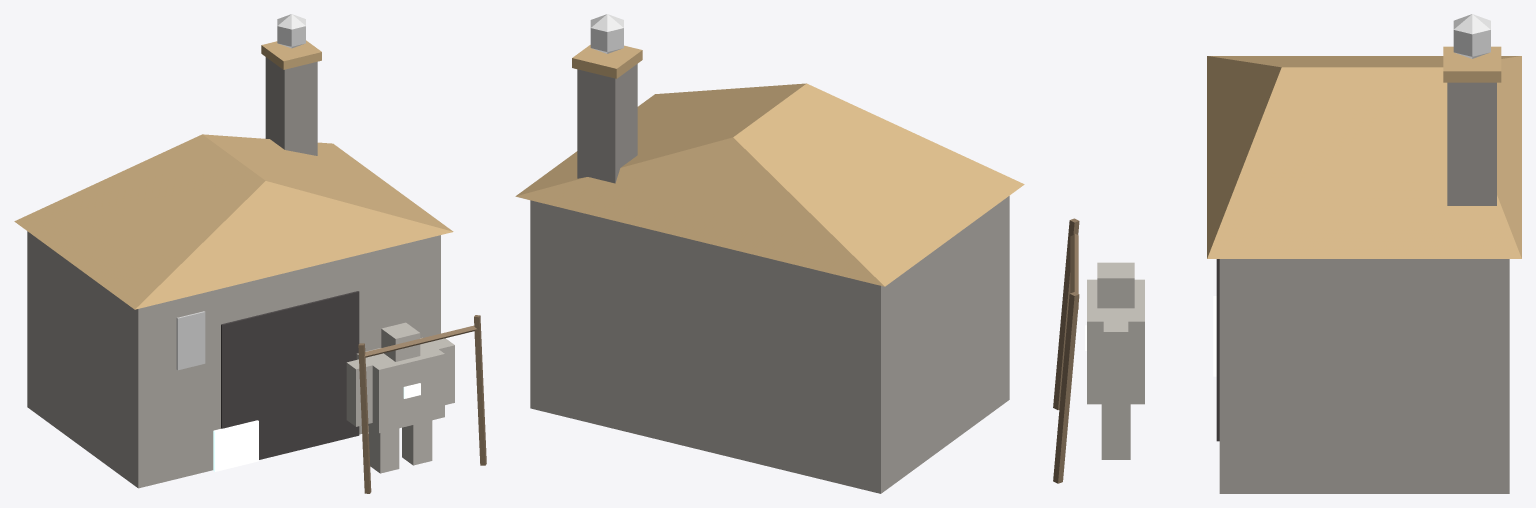
The picture shows the model from 3 angles, left to right: view 1: azimuth 30°, elevation 25°; view 2: azimuth 150°, elevation 25°; view 3: azimuth 270°, elevation 25°; orthographic projection. The views are drawn at different scales.
Parts seen in each view (by area): view 1: body; view 2: body; view 3: body.
Boxes of the visible parts, x1,y1,x2,y2 form: body: (14,14,486,493); body: (515,14,1024,493); body: (1053,14,1521,493).
Size of the model in its own units: 11.6 by 11.91 by 11.32.
